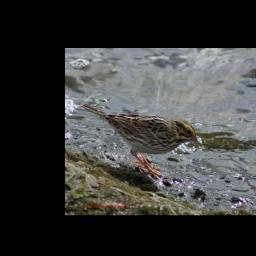Sparrow: (82, 102, 201, 177)
